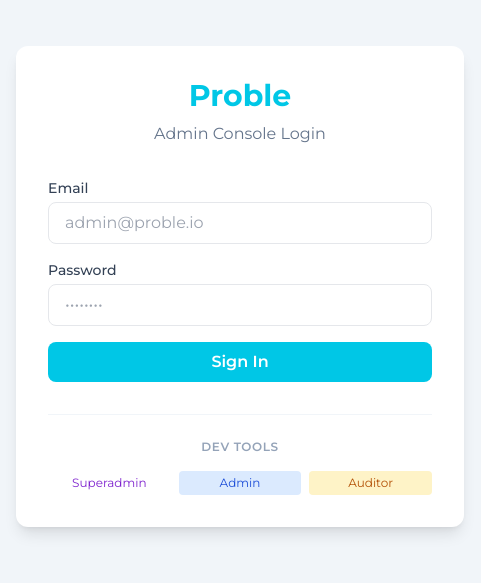
Login Page › handles login failure
Click the button "Sign In" at (240, 362), box x1=48 y1=342 x2=432 y2=382
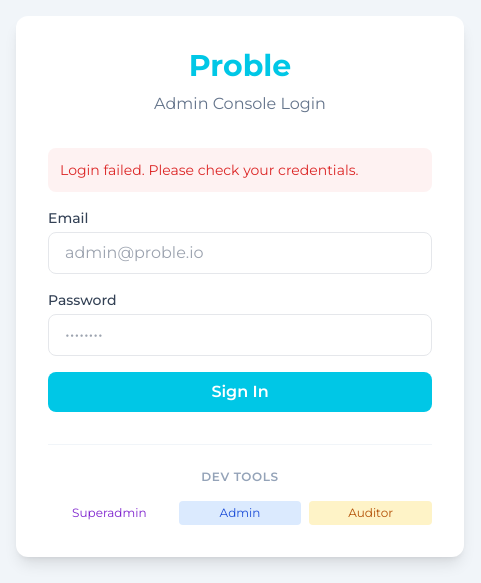
Expected: the text "Login failed. Please check your credentials." is shown, x1=48 y1=148 x2=432 y2=192
